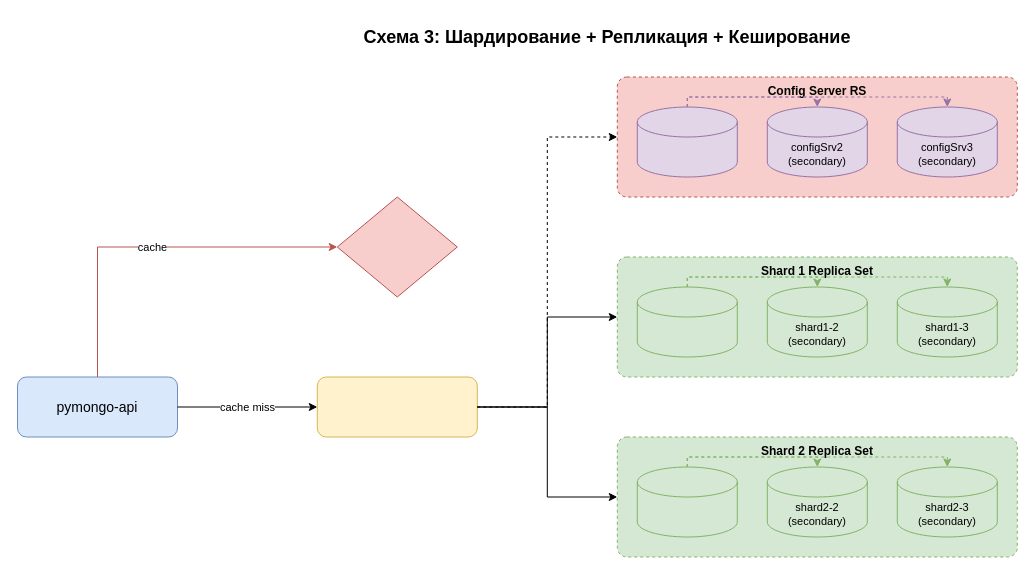
This 1035x575 diagram has some shape labels left out. Each missing label, with the centre of its shape:
"configSrv1 (primary)" goes at [686,141].
"mongos_router" goes at [396,406].
"redis" goes at [396,246].
"shard1-1 (primary)" goes at [686,321].
"shard2-1 (primary)" goes at [686,501].
